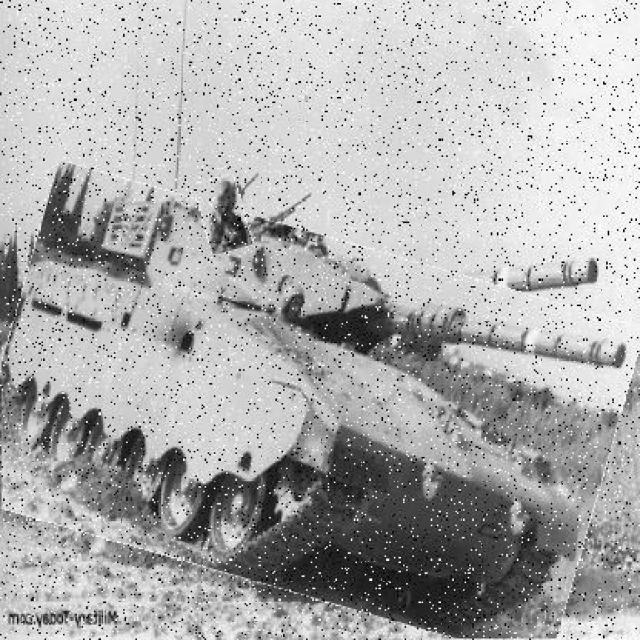Person: (200, 178, 251, 255)
Tank: (3, 200, 629, 629)
